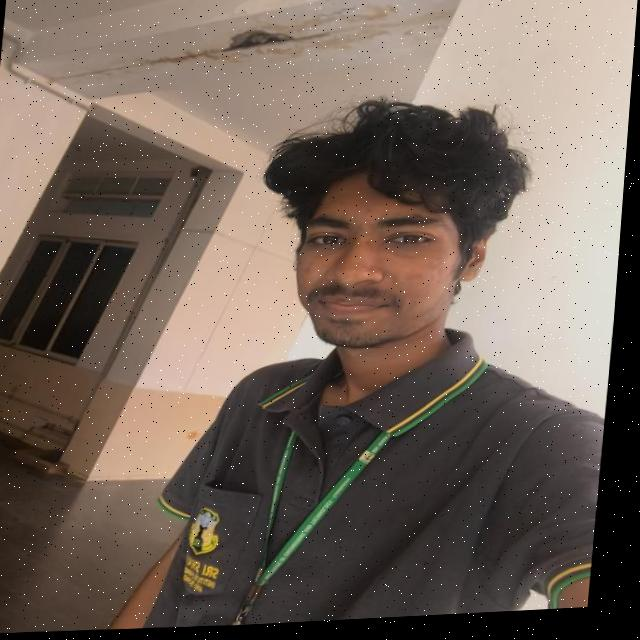id_card: (234, 401, 409, 629)
